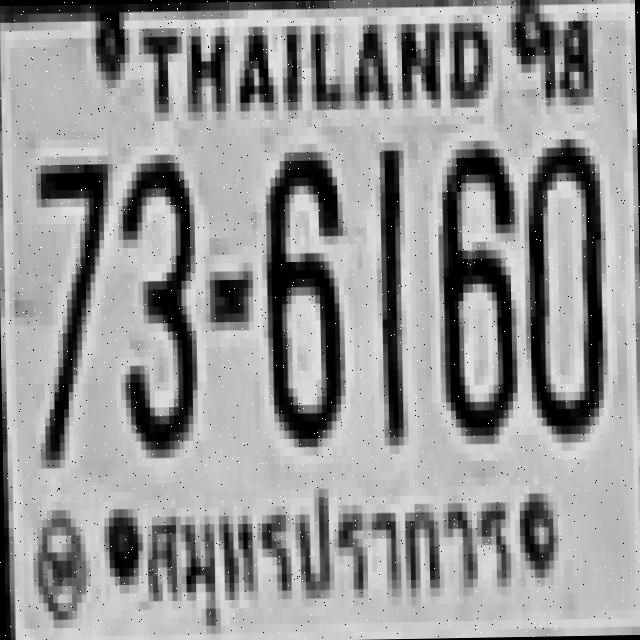0: (522, 130, 604, 434)
1: (374, 138, 404, 441), (372, 138, 401, 441)
3: (116, 146, 193, 450)
6: (260, 143, 342, 439), (436, 140, 513, 436)
7: (32, 156, 110, 460)
SamutPrakan: (128, 477, 526, 631)
